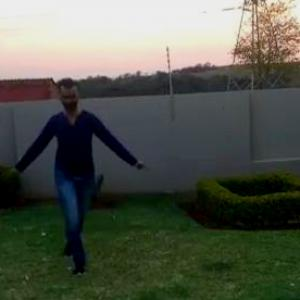land: (16, 78, 126, 239)
